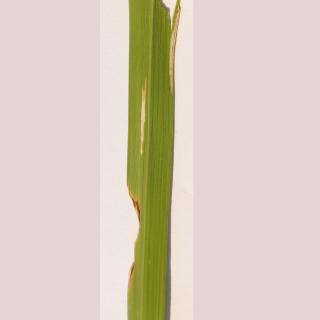Hawar-Daun: (120, 176, 160, 281), (158, 5, 188, 99), (133, 71, 154, 151)
